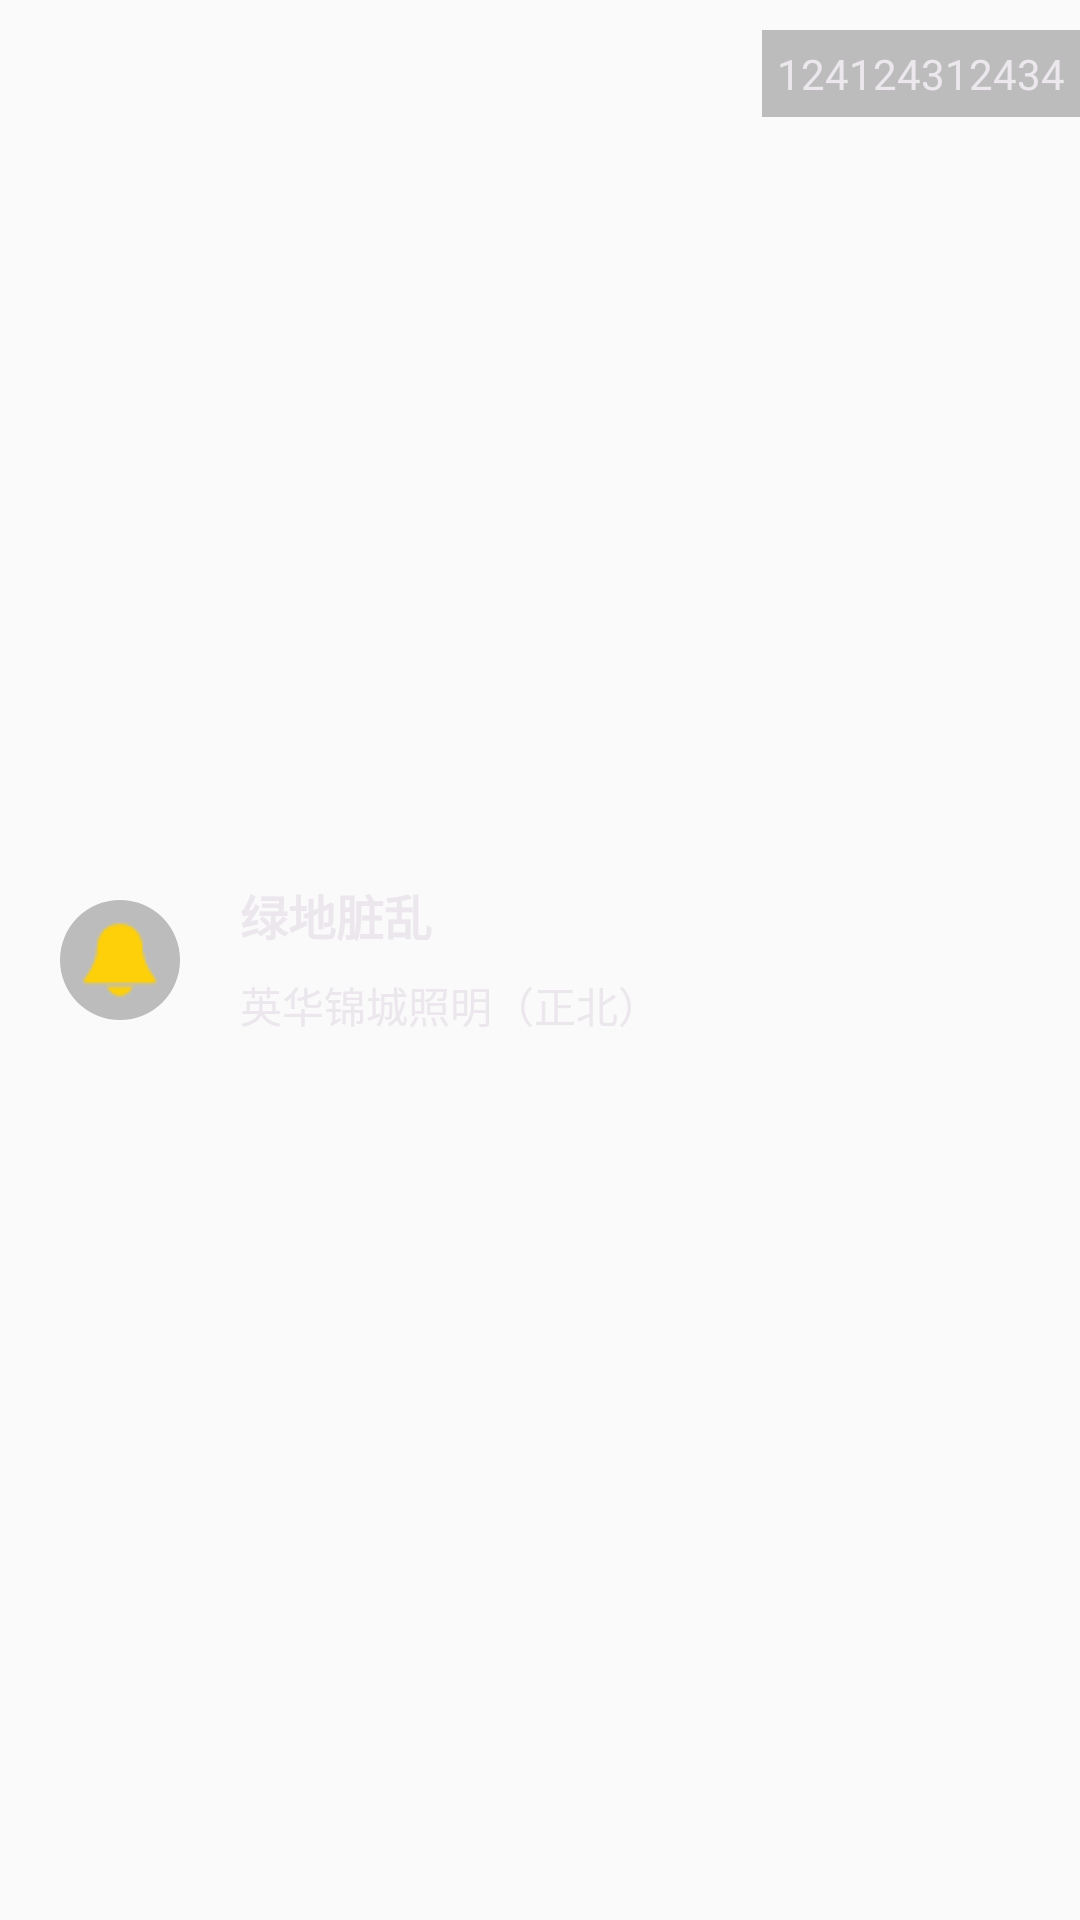

Icon click points for this 1080w x 1920h phone screenshot, format point (x, y):
lingdang: point (120, 960)
